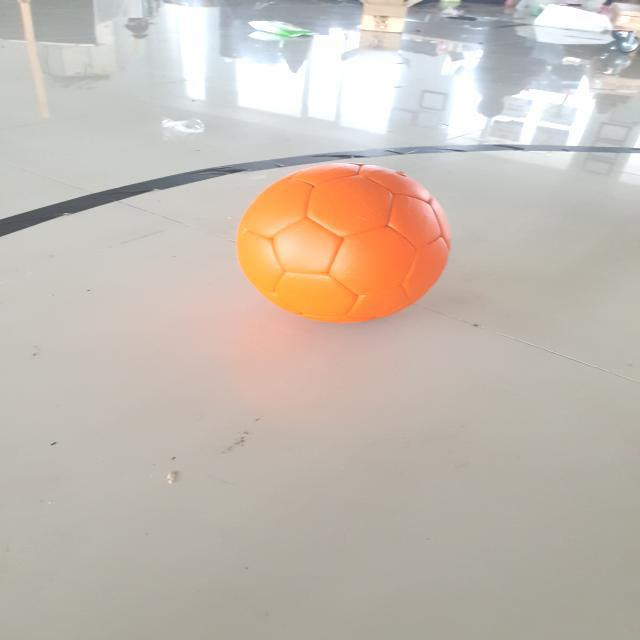bola: (233, 160, 455, 332)
